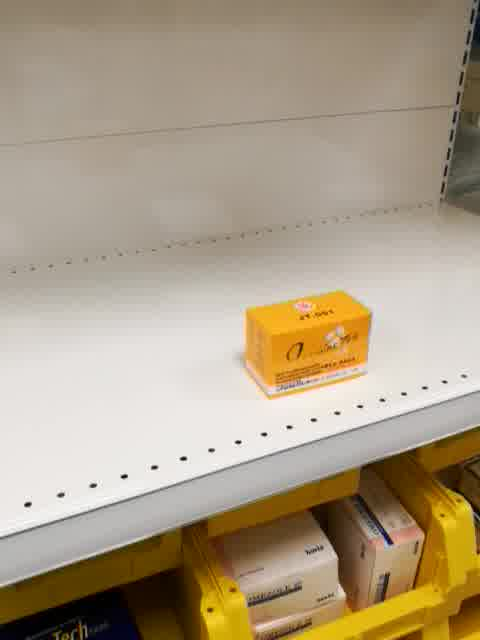jasminetea: (243, 287, 377, 401)
